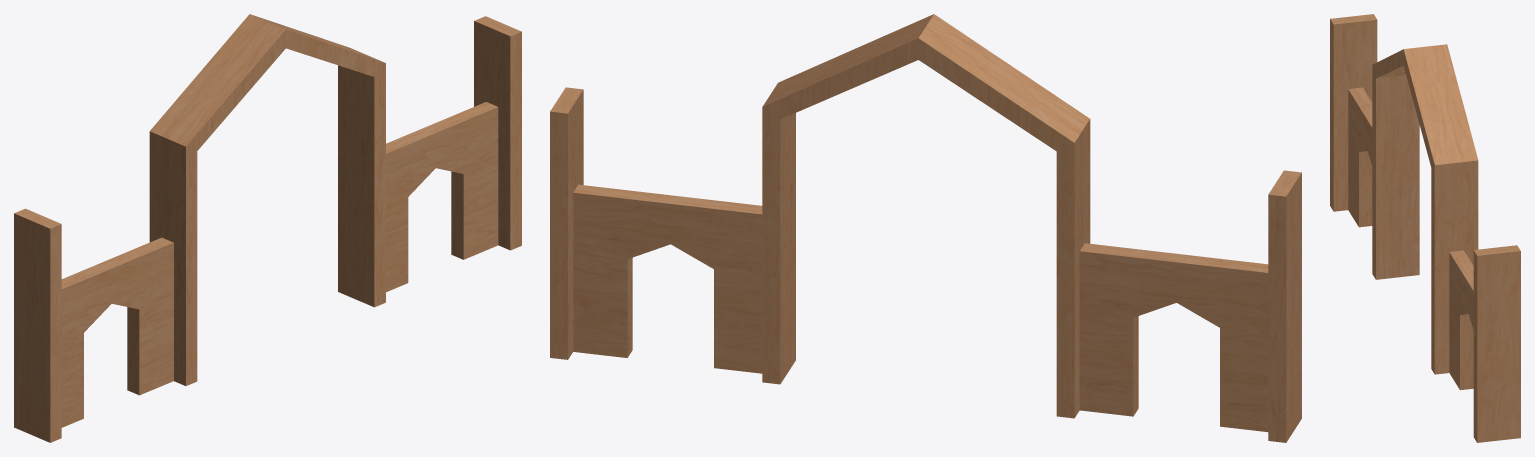
The model's file is Prop_F5_WoodDoor.fbx.
The picture shows the model from 3 angles, left to right: view 1: azimuth 30°, elevation 25°; view 2: azimuth 150°, elevation 25°; view 3: azimuth 270°, elevation 25°; orthographic projection. The views are drawn at different scales.
Visible parts, largest first — view 1: Prop_F5_WoodDoor; view 2: Prop_F5_WoodDoor; view 3: Prop_F5_WoodDoor.
Part boxes in pixels (x1=…): Prop_F5_WoodDoor: x1=14, y1=14, x2=521, y2=442; Prop_F5_WoodDoor: x1=550, y1=14, x2=1301, y2=442; Prop_F5_WoodDoor: x1=1330, y1=14, x2=1520, y2=442.
Size of the model in its own units: 479 by 254 by 160.
1 material, 1 textured.
